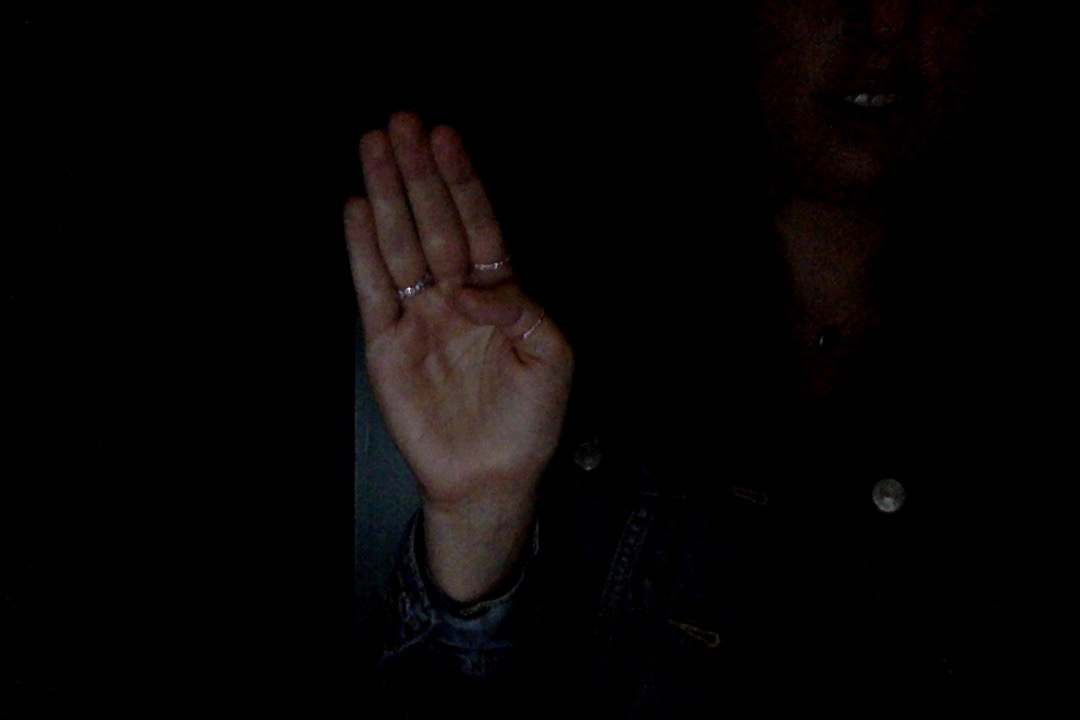b: (310, 81, 599, 528)
